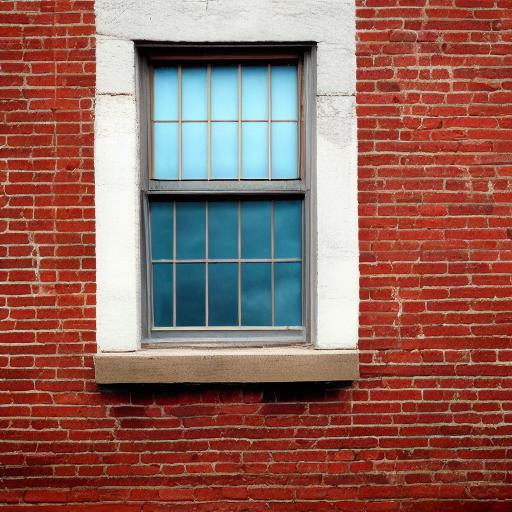Window: (92, 0, 364, 389)
